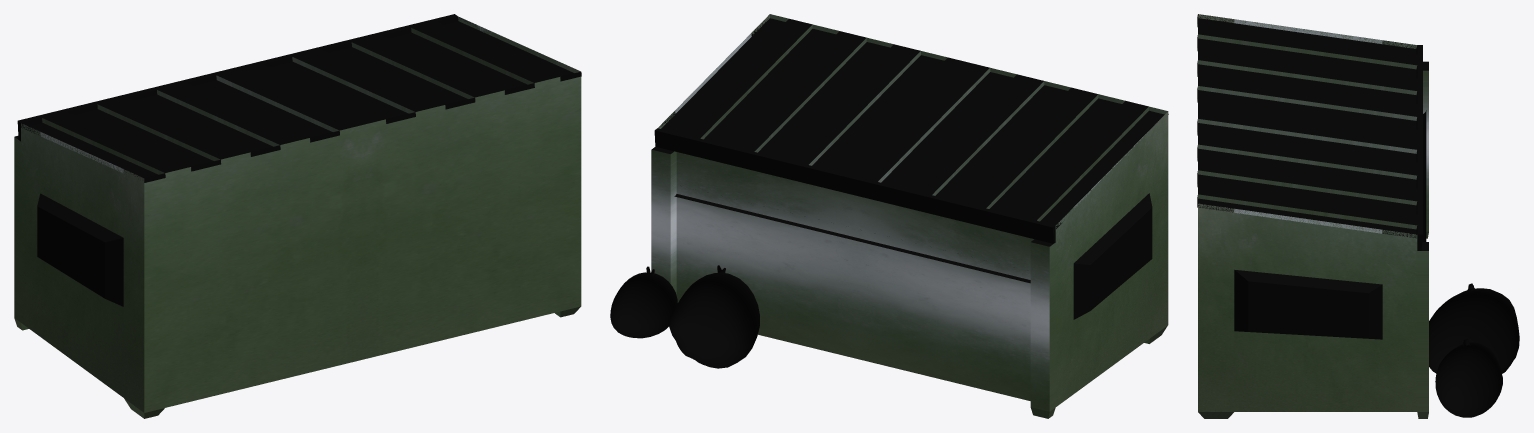
The model's file is Trash_container.fbx.
3 views of the same model, side by side, from view 1: azimuth 30°, elevation 25°; view 2: azimuth 150°, elevation 25°; view 3: azimuth 270°, elevation 25° (orthographic). The views are drawn at different scales.
Visible parts, largest first — view 1: Trashcontainerconjunto; view 2: Trashcontainerconjunto; view 3: Trashcontainerconjunto.
Part boxes in pixels (bbox=[...]): Trashcontainerconjunto: bbox=[14, 14, 581, 418]; Trashcontainerconjunto: bbox=[610, 14, 1168, 418]; Trashcontainerconjunto: bbox=[1197, 14, 1519, 418].
Bounding box in the file's own units: 350 × 176 × 235.
2 materials, 1 textured.
